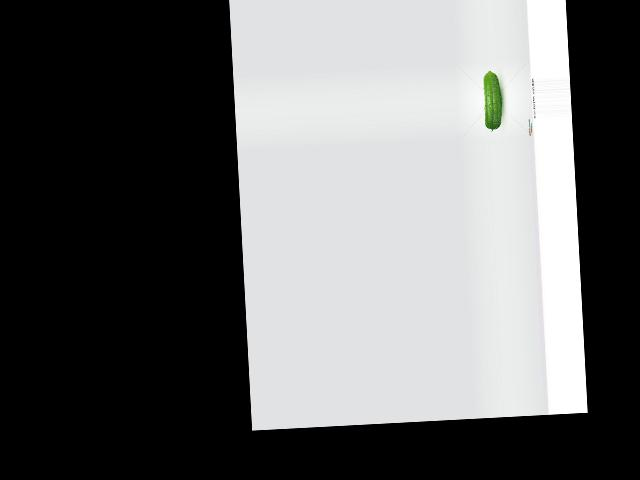cucumber: (482, 69, 503, 131)
